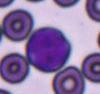L: (26, 26, 72, 72)
